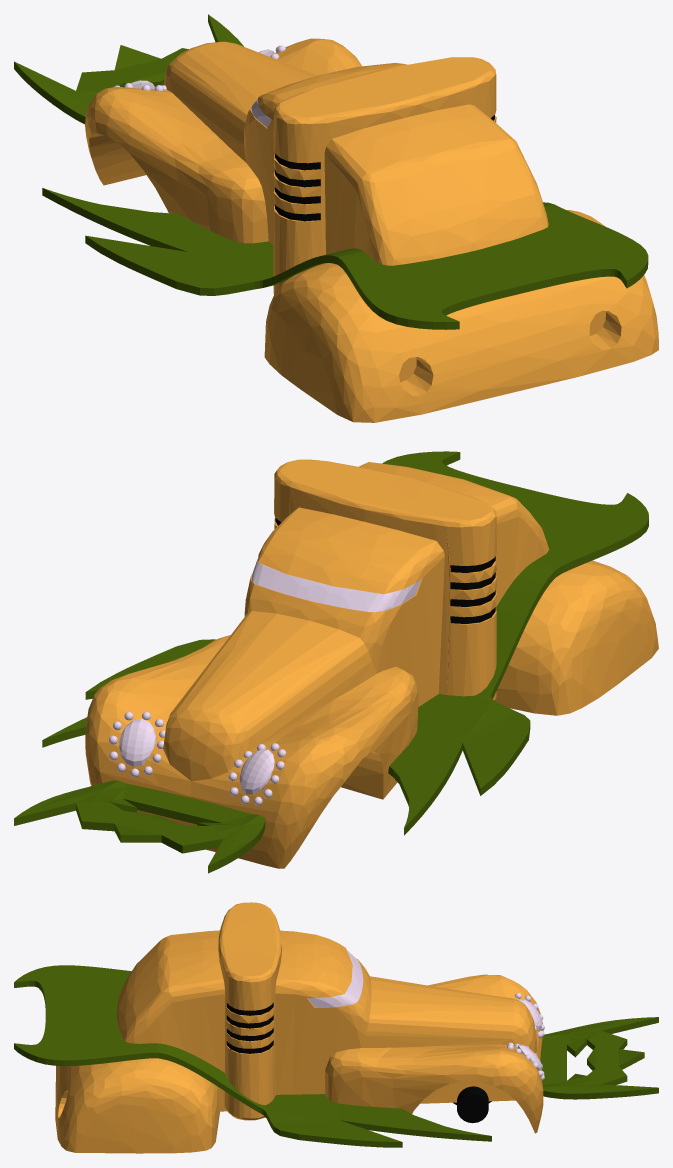
The model's file is body.fbx.
3 views of the same model, one above another, from view 1: azimuth 30°, elevation 25°; view 2: azimuth 150°, elevation 25°; view 3: azimuth 270°, elevation 25° (orthographic). The views are drawn at different scales.
Visible parts, largest first — view 1: object_1.003, object_1.018, object_2.016, object_24.002; view 2: object_1.003, object_1.018, object_24.002, object_2.016; view 3: object_1.003, object_1.018, object_24.002, object_2.016, object_3.008.
Boxes of the visible parts, x1,y1,x2,y2 form: object_1.003: (85, 38, 658, 422); object_1.018: (14, 14, 648, 329); object_2.016: (275, 115, 494, 221); object_24.002: (114, 45, 285, 127); object_1.003: (85, 459, 658, 868); object_1.018: (14, 451, 648, 873); object_24.002: (109, 558, 421, 805); object_2.016: (275, 518, 495, 623); object_1.003: (55, 902, 543, 1153); object_1.018: (14, 965, 658, 1147); object_24.002: (308, 950, 544, 1080); object_2.016: (226, 1002, 273, 1053); object_3.008: (453, 1086, 491, 1123).
Size of the model in its own units: 268 by 147 by 508.
